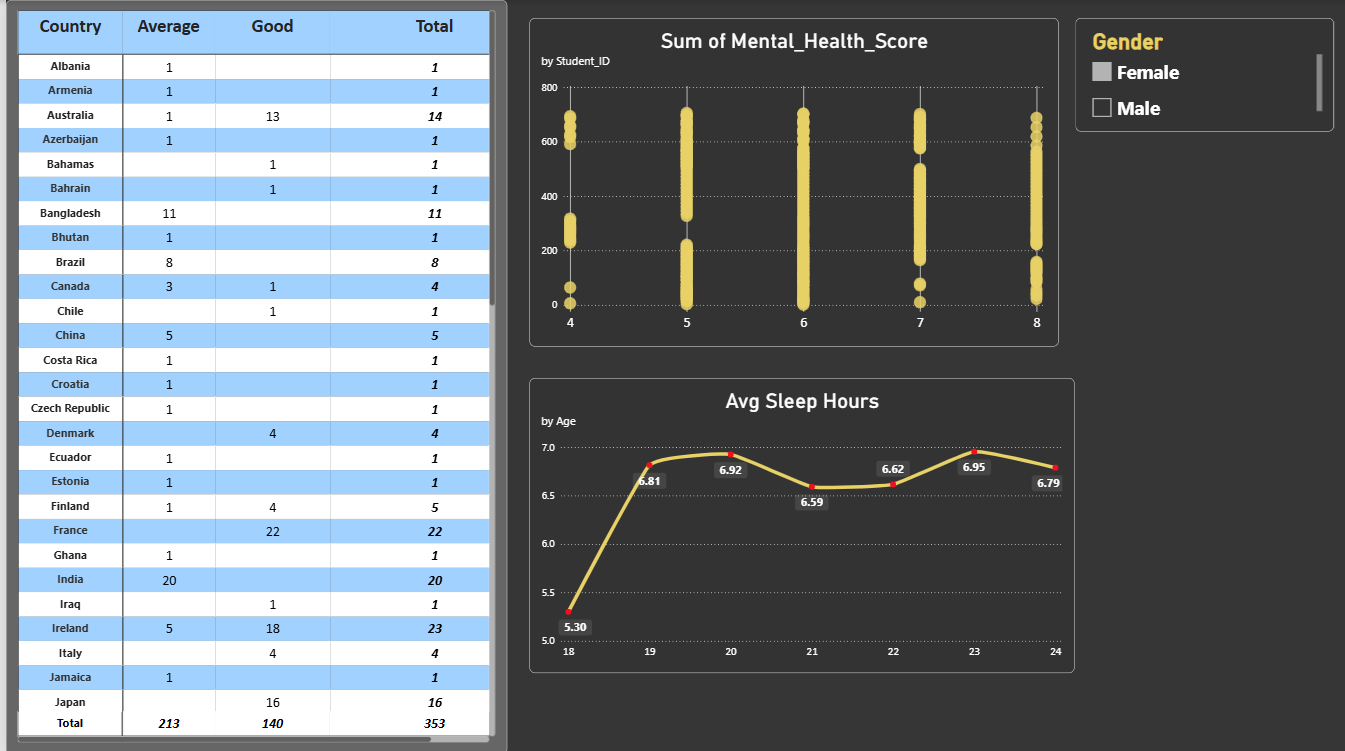

Layout of this report page (visuals, bound fields, positions):
{"tool":"powerbi","page":{"name":"Mental Health & Lifestyle","canvas":[1920,1080],"ordinal":1},"visuals":[{"type":"pivotTable","fields":{"Columns":["Student_Details.Health Band"],"Rows":["Student_Details.Country"],"Values":["_Measures.Total Students"]},"box":[0,0,718.1,1080.9],"z":0},{"type":"scatterChart","fields":{"X":["Sum(Student_Details.Mental_Health_Score)"],"Y":["Student_Details.Student_ID"]},"box":[750.7,25,758.2,470.4],"z":1000},{"type":"lineChart","fields":{"Category":["Student_Details.Age"],"Y":["_Measures.Avg Sleep Hours"]},"box":[750.7,540.5,780.7,422.9],"z":2000},{"type":"slicer","fields":{"Values":["Student_Details.Gender"]},"box":[1531.3,25,370.3,162.6],"z":3000}]}

Visuals, with their boxes in screenshot pixels (x1, y1, x2, y2), scaled from the page's 1920x1080 canvas onto the 1345x751 screenshot:
pivotTable - Student_Details.Health Band x Student_Details.Country: {"x1": 0, "y1": 0, "x2": 503, "y2": 750}
scatterChart - Sum(Student_Details.Mental_Health_Score) x Student_Details.Student_ID: {"x1": 526, "y1": 17, "x2": 1057, "y2": 344}
lineChart - Student_Details.Age x _Measures.Avg Sleep Hours: {"x1": 526, "y1": 376, "x2": 1073, "y2": 670}
slicer - Student_Details.Gender: {"x1": 1073, "y1": 17, "x2": 1332, "y2": 130}
